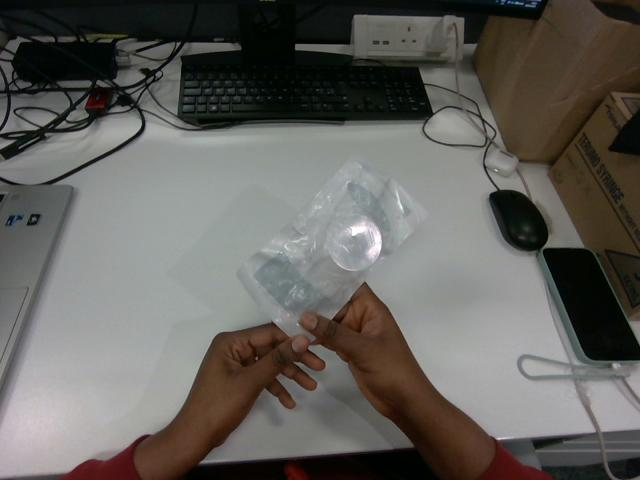gallipot: (238, 160, 425, 336)
